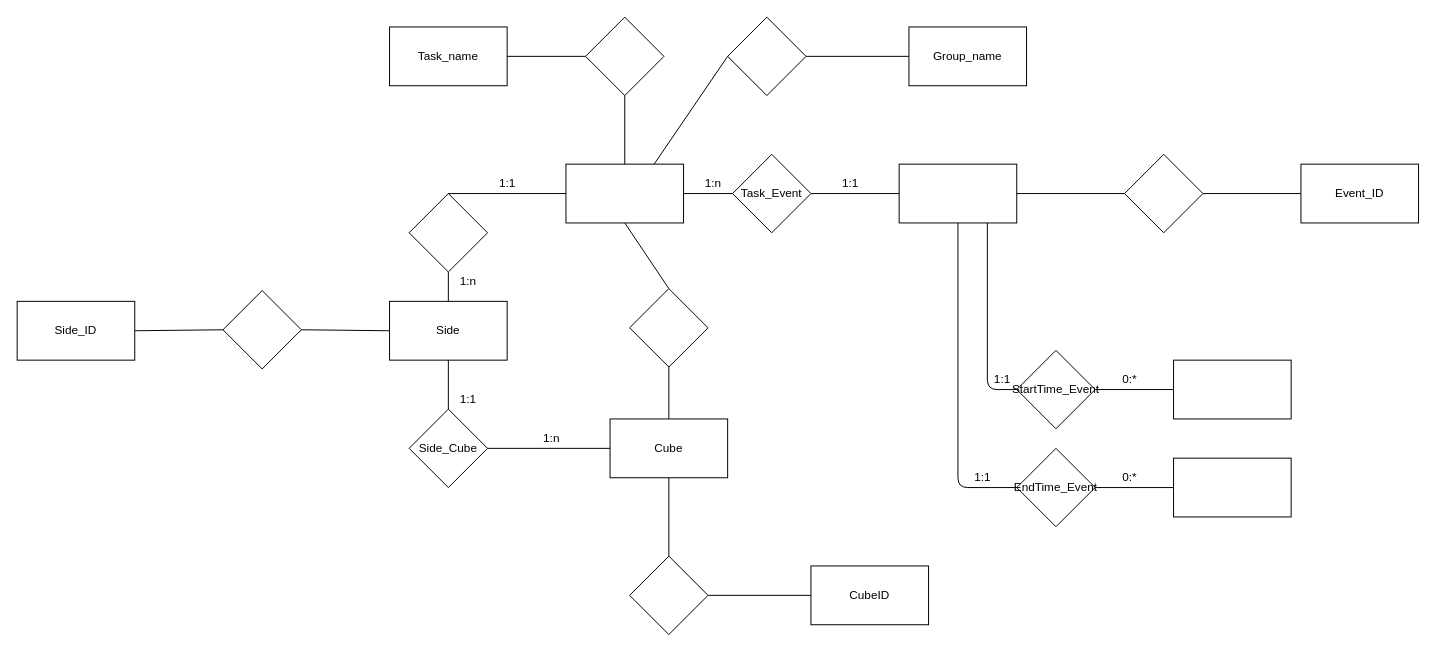
The diagram is 1436 pixels wide and 652 high, and some of its shapes have lost their labels. Here are the shapes that lost their labels. From the top down, the centre of each, then its label:
At (624,193): "Task".
At (957,193): "Event".
At (448,232): "Side_Task".
At (1232,389): "Start Time".
At (1232,487): "End Time".
